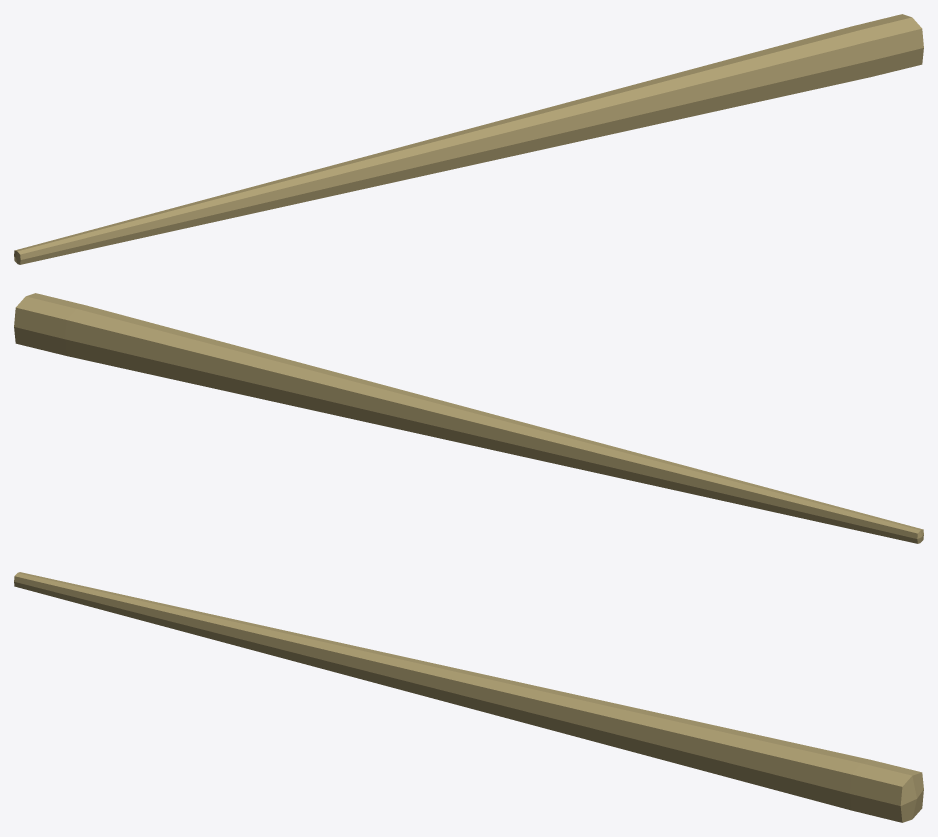
File: Single_Chopstick_v003(UV_Unwrapped).fbx
The picture shows the model from 3 angles, top to bottom: view 1: azimuth 30°, elevation 25°; view 2: azimuth 150°, elevation 25°; view 3: azimuth 330°, elevation 25°; orthographic projection.
Visible parts, largest first — view 1: Chopstick; view 2: Chopstick; view 3: Chopstick.
Boxes of the visible parts, x1,y1,x2,y2 form: Chopstick: [14, 14, 923, 264]; Chopstick: [14, 293, 923, 543]; Chopstick: [14, 572, 923, 822].
Bounding box in the file's own units: 3536 × 165 × 158.
